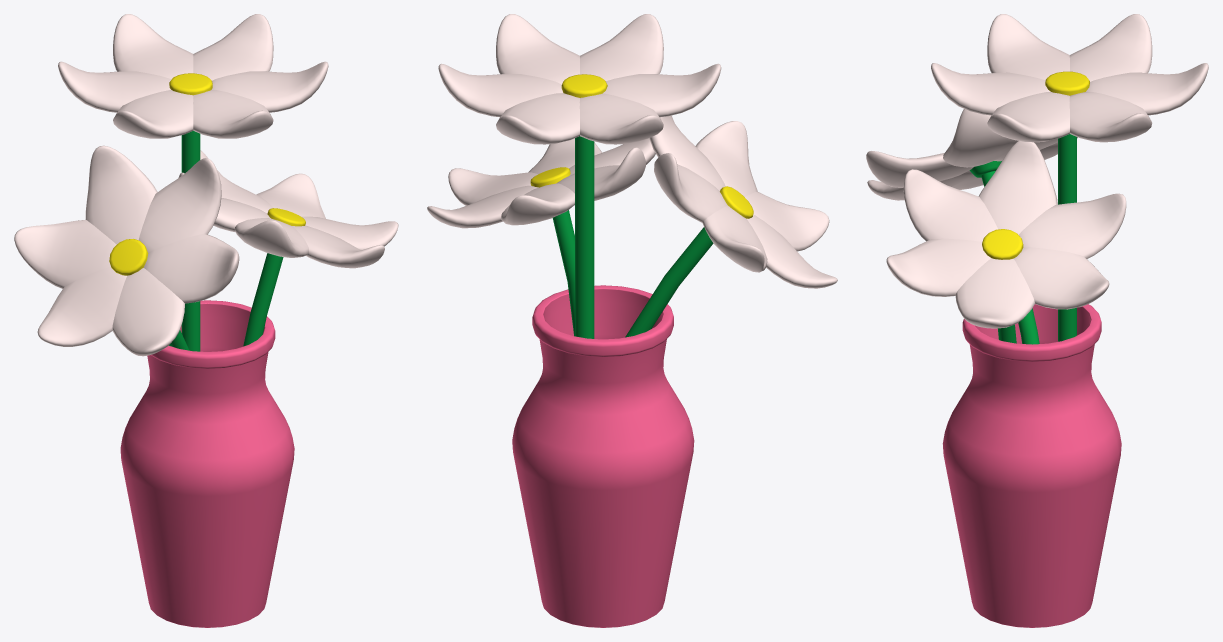
File: Town_20_Vase_With_Flowers_1.glb
3 views of the same model, side by side, from view 1: azimuth 30°, elevation 25°; view 2: azimuth 150°, elevation 25°; view 3: azimuth 270°, elevation 25° (orthographic). The views are drawn at different scales.
Parts seen in each view (by area): view 1: Town_20_Vase_With_Flowers_1; view 2: Town_20_Vase_With_Flowers_1; view 3: Town_20_Vase_With_Flowers_1.
Boxes of the visible parts, x1,y1,x2,y2 form: Town_20_Vase_With_Flowers_1: [14, 14, 398, 627]; Town_20_Vase_With_Flowers_1: [427, 14, 837, 627]; Town_20_Vase_With_Flowers_1: [866, 14, 1208, 627].
Size of the model in its own units: 0.3805 by 0.5268 by 0.3025.
1 material, 1 textured.
